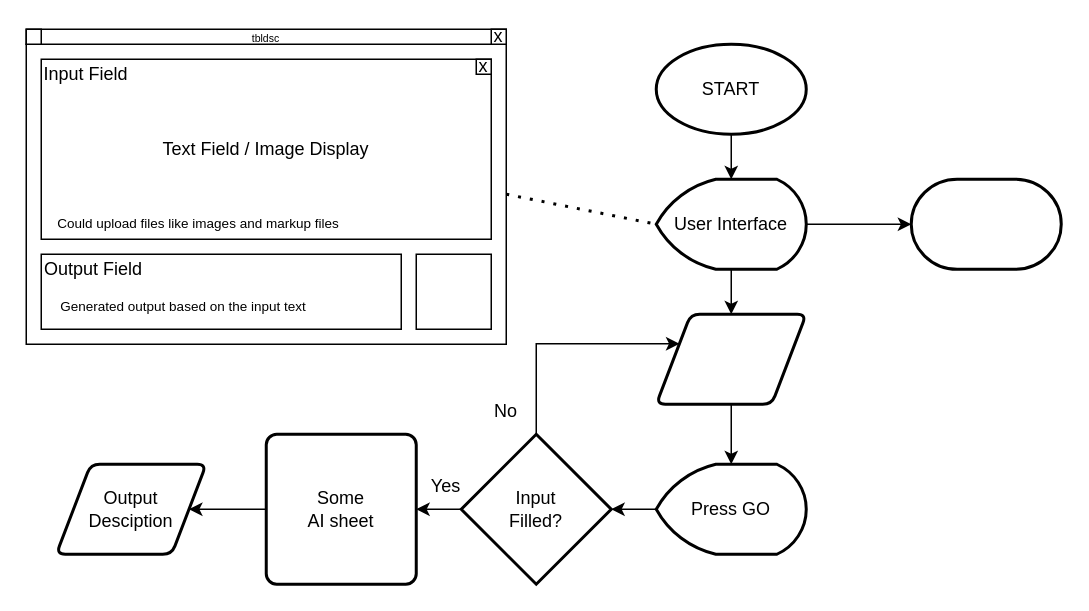
This 1089x611 diagram has some shape labels left out. Here are the shapes that lost their labels. From the top down, the centre of each, then its label:
At (985,223): "STOP".
At (453,291): "Go".
At (730,358): "Input Table".
